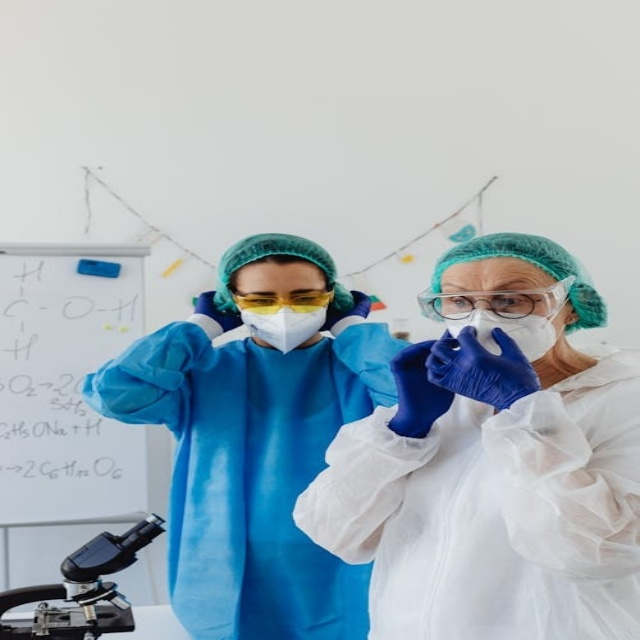Gafas: (417, 275, 576, 324), (231, 289, 335, 313)
Guantes: (426, 326, 549, 406), (380, 335, 445, 440), (184, 282, 234, 336), (329, 288, 380, 335)
Mascara: (440, 293, 564, 363), (237, 298, 332, 353)
